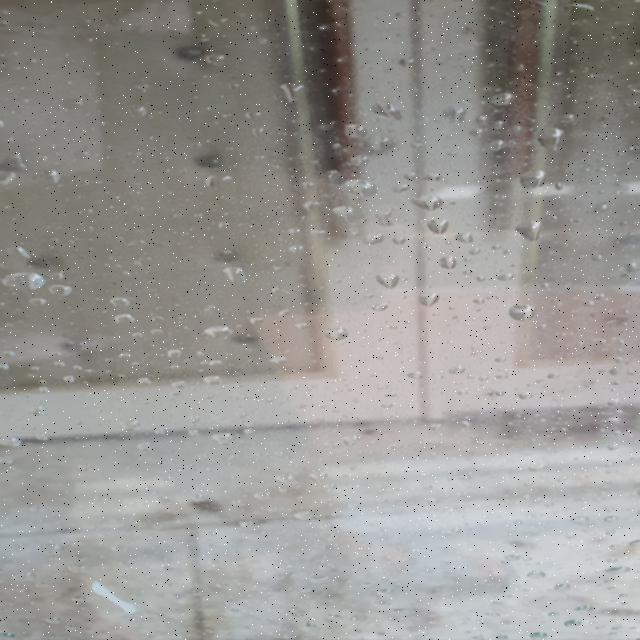raindrop: (267, 78, 327, 108), (530, 122, 572, 156), (335, 176, 386, 202), (0, 267, 47, 295), (0, 152, 32, 190), (427, 102, 472, 128), (501, 300, 547, 325), (508, 217, 544, 246), (362, 99, 404, 123), (222, 264, 258, 291), (308, 324, 354, 345), (328, 201, 365, 227), (1, 566, 46, 587), (482, 88, 522, 111), (368, 271, 404, 296), (512, 167, 546, 193), (102, 292, 142, 314), (102, 311, 148, 329), (331, 121, 370, 142), (198, 322, 238, 342), (410, 291, 446, 313), (420, 217, 454, 240), (202, 430, 240, 450), (434, 358, 476, 376), (255, 470, 308, 484), (394, 366, 431, 386), (432, 252, 464, 275), (354, 228, 394, 246), (412, 193, 446, 212), (375, 206, 400, 231), (17, 298, 61, 312), (596, 562, 640, 576), (200, 373, 232, 392), (548, 578, 580, 597), (0, 430, 30, 450), (36, 541, 68, 559), (38, 282, 68, 301), (252, 490, 287, 505), (306, 466, 338, 482), (454, 230, 480, 247), (514, 570, 550, 582), (520, 628, 555, 640), (294, 508, 324, 522), (344, 429, 366, 448), (557, 618, 584, 632), (306, 574, 336, 586), (570, 602, 597, 614)
